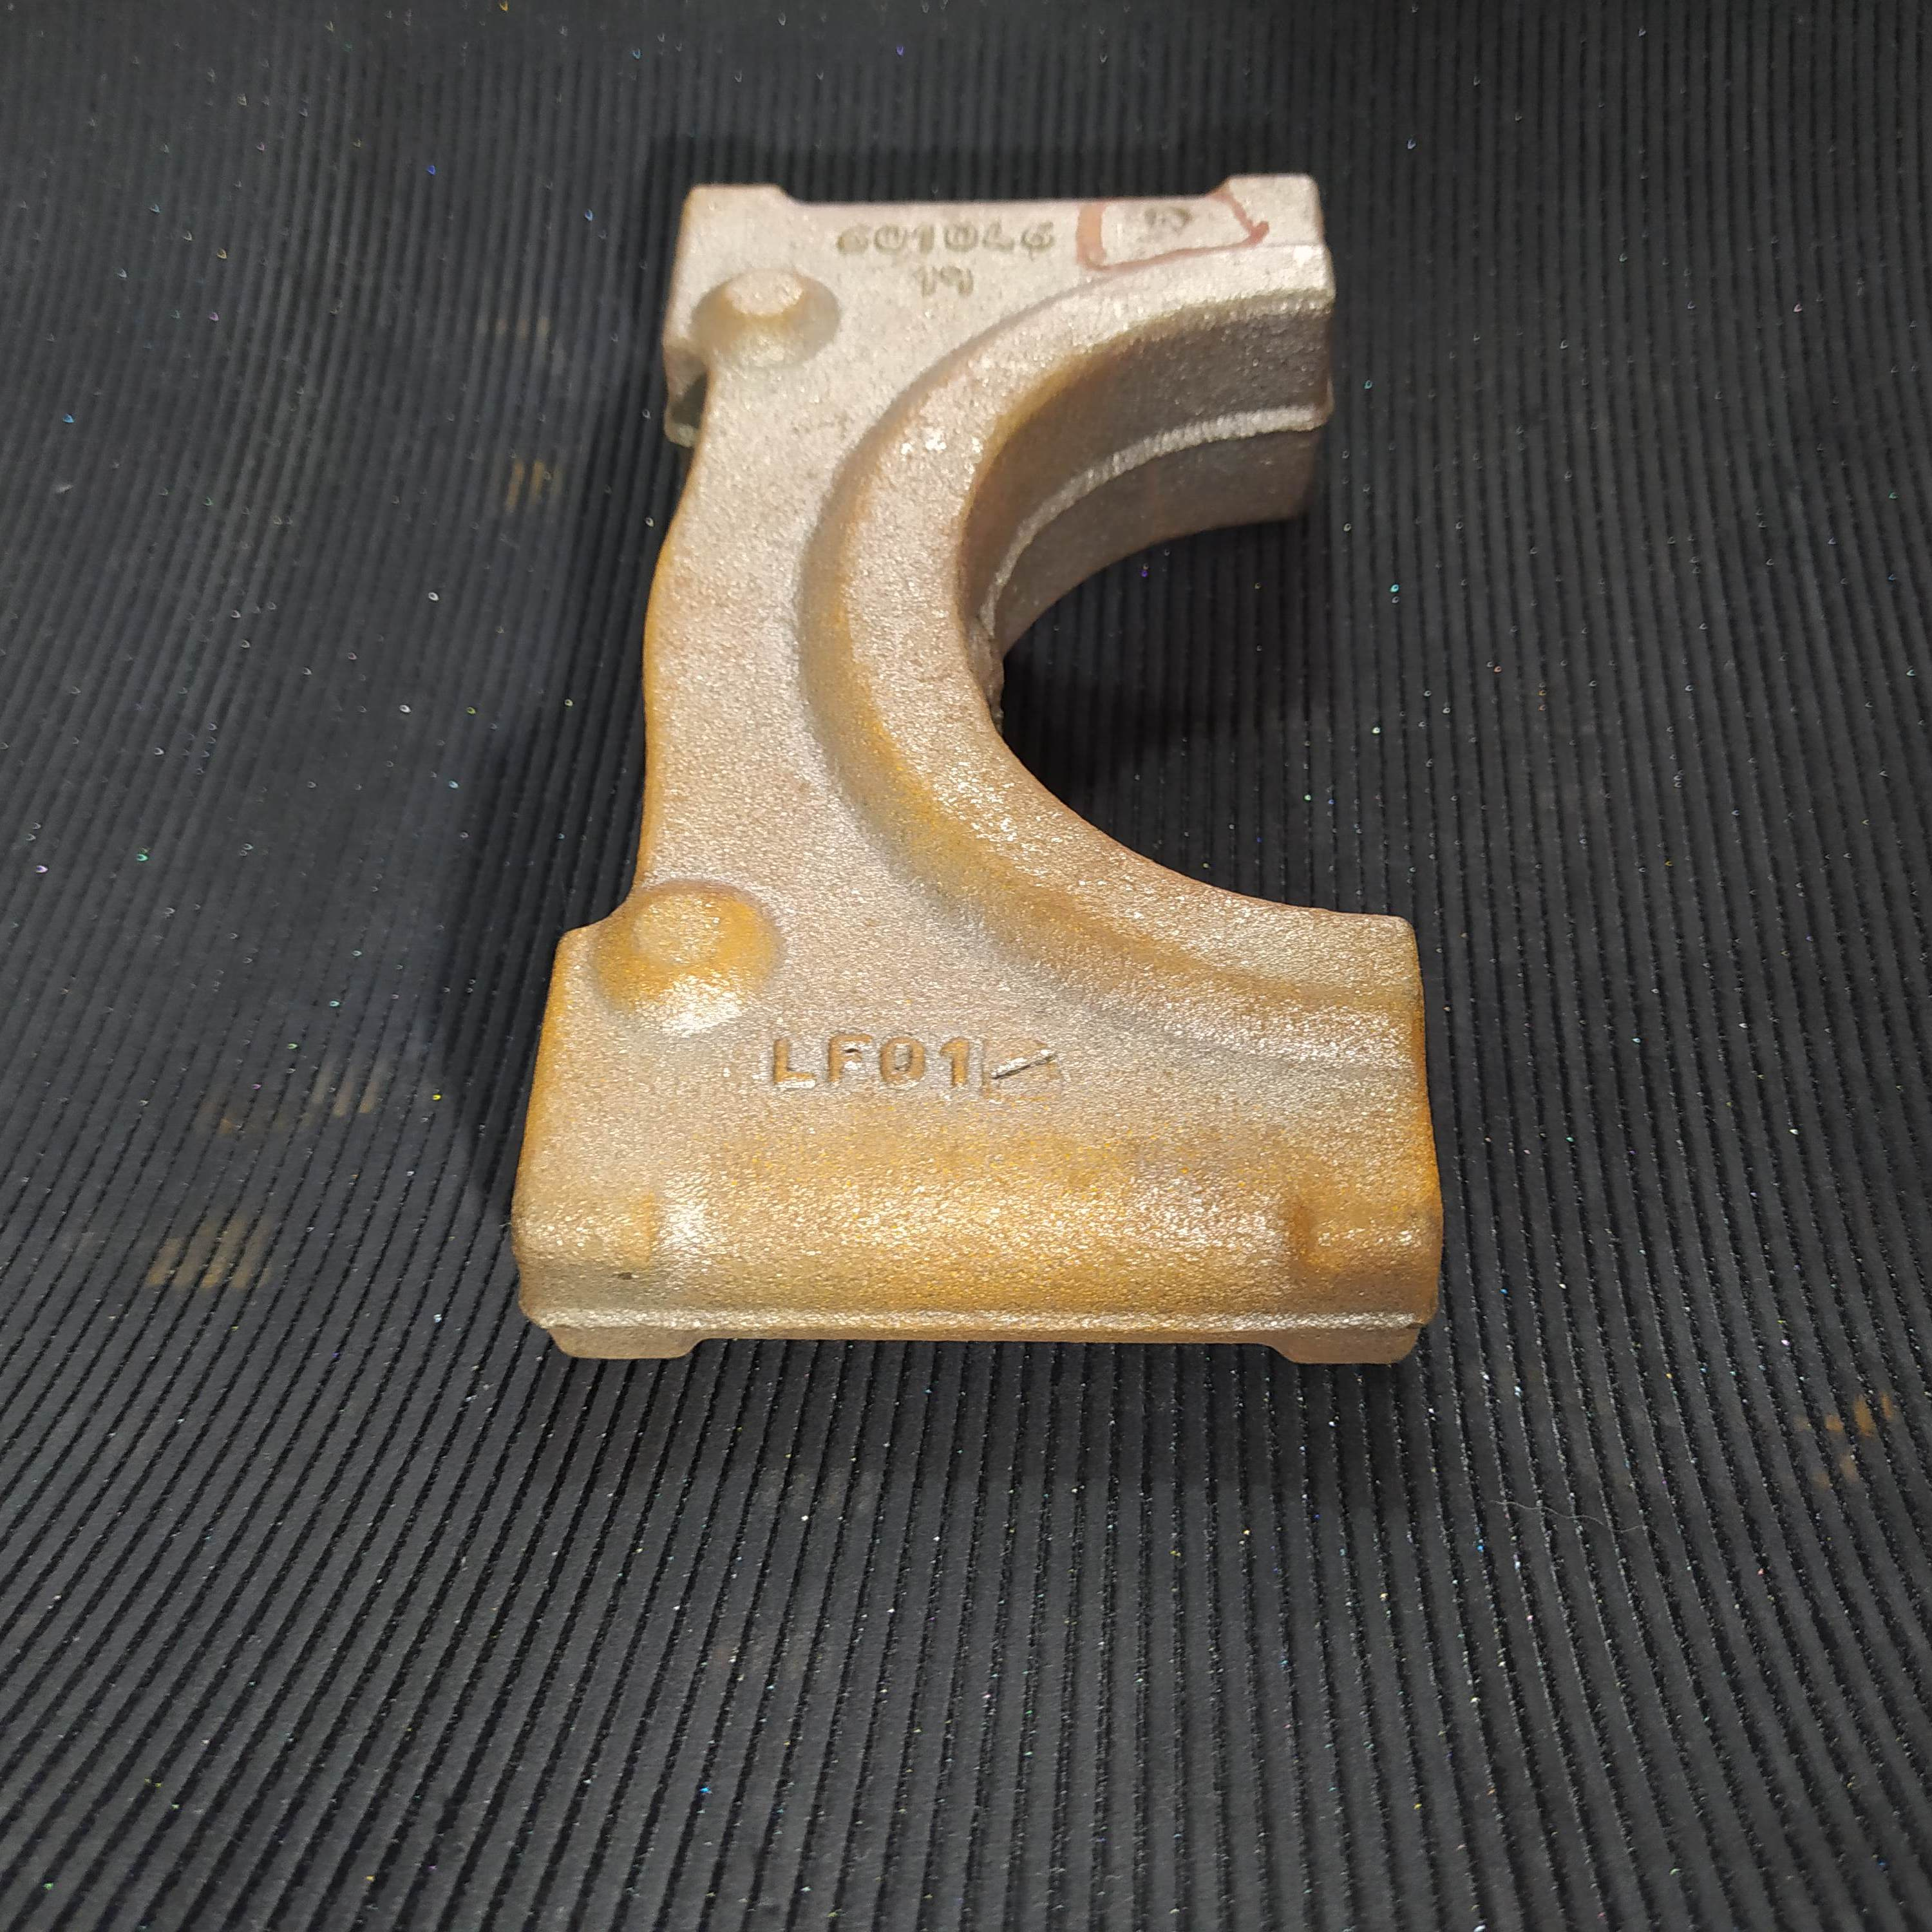buraco: (1141, 196, 1192, 242)
